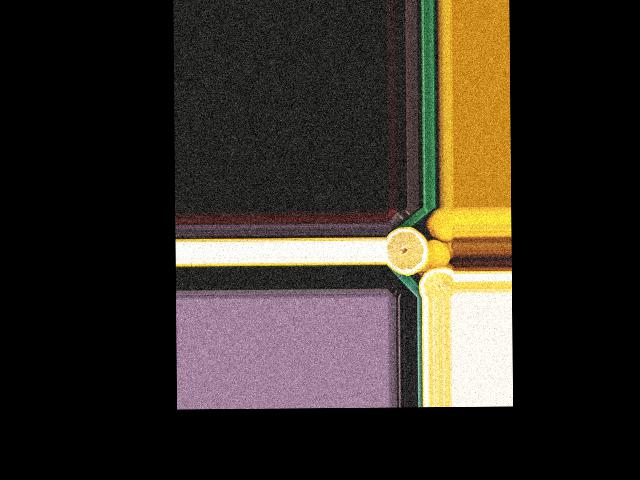lemon: (420, 240, 451, 273)
